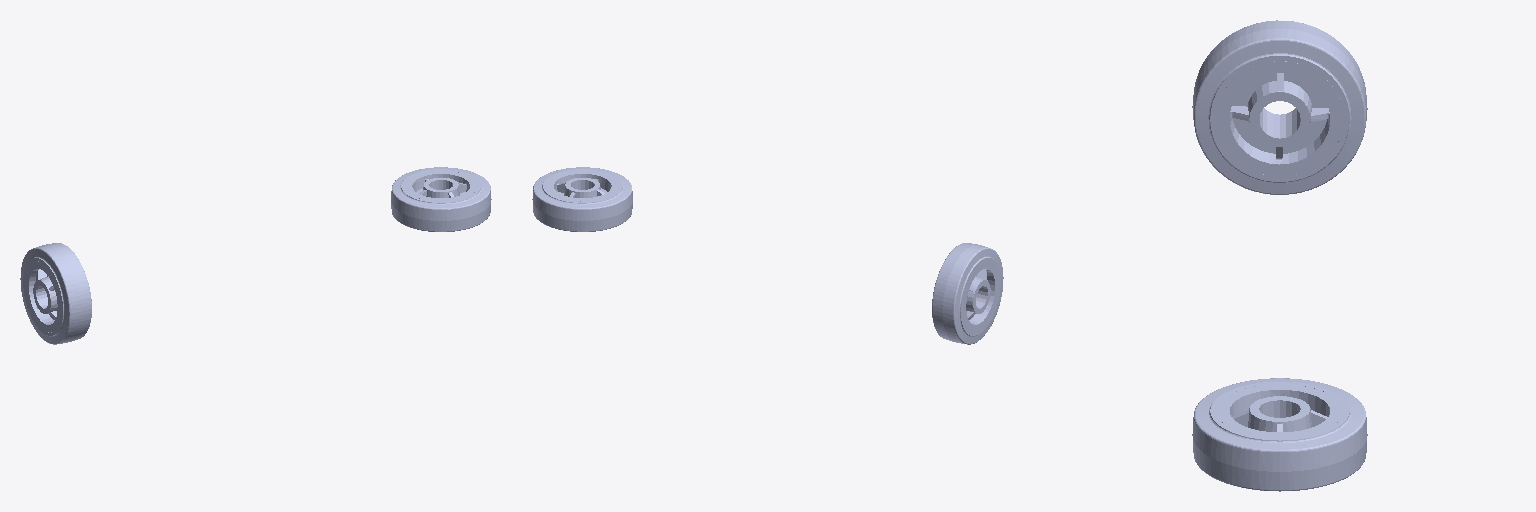
robot.urdf — drivetrain_urdf:
<?xml version="1.0" encoding="utf-8"?>
<!-- This URDF was automatically created by SolidWorks to URDF Exporter! Originally created by Stephen Brawner (brawner@gmail.com) 
     Commit Version: 1.6.0-4-g7f85cfe  Build Version: 1.6.7995.38578
     For more information, please see http://wiki.ros.org/sw_urdf_exporter -->
<robot
  name="drivetrain_urdf">

  <link name="world"/>

  <link
    name="drivetrain_base_link">
    <inertial>
      <origin
        xyz="0.25853 -0.477 0.1222"
        rpy="0 0 0" />
      <mass
        value="18.295" />
      <inertia
        ixx="0.10003"
        ixy="1.888E-07"
        ixz="9.4489E-10"
        iyy="0.18366"
        iyz="-7.4547E-08"
        izz="0.18101" />
    </inertial>
    <visual>
      <origin
        xyz="0 0 0"
        rpy="0 0 0" />
      <geometry>
        <mesh
          filename="package://drivetrain_urdf/meshes/drivetrain_base_link.STL" />
      </geometry>
      <material
        name="">
        <color
          rgba="0.75294 0.75294 0.75294 1" />
      </material>
    </visual>
    <collision>
      <origin
        xyz="0 0 0"
        rpy="0 0 0" />
      <geometry>
        <mesh
          filename="package://drivetrain_urdf/meshes/drivetrain_base_link.STL" />
      </geometry>
    </collision>
  </link>

  <joint name="drivetrain_base_joint" type="fixed">
  	<parent link="world"/>
  	<child link="drivetrain_base_link"/>
  	<origin rpy="0 0 0" xyz="0.0 0.0 0.05"/>
  </joint>

  <link
    name="left_wheel">
    <inertial>
      <origin
        xyz="1.3885E-08 -4.7617E-10 -8.5335E-12"
        rpy="0 0 0" />
      <mass
        value="0.36704" />
      <inertia
        ixx="0.00082344"
        ixy="4.2918E-12"
        ixz="1.5551E-13"
        iyy="0.0004503"
        iyz="2.6527E-10"
        izz="0.0004503" />
    </inertial>
    <visual>
      <origin
        xyz="0 0 0"
        rpy="0 0 0" />
      <geometry>
        <mesh
          filename="package://drivetrain_urdf/meshes/left_wheel.STL" />
      </geometry>
      <material
        name="">
        <color
          rgba="0.79216 0.81961 0.93333 1" />
      </material>
    </visual>
    <collision>
      <origin
        xyz="0 0 0"
        rpy="0 0 0" />
      <geometry>
        <mesh
          filename="package://drivetrain_urdf/meshes/left_wheel.STL" />
      </geometry>
    </collision>
  </link>
  <joint
    name="left_wheel_joint"
    type="continuous">
    <origin
      xyz="-0.026657 -0.33398 0.025404"
      rpy="0 0 0" />
    <parent
      link="drivetrain_base_link" />
    <child
      link="left_wheel" />
    <axis
      xyz="1 0 0" />
  </joint>
  <link
    name="right_wheel">
    <inertial>
      <origin
        xyz="1.38846332209397E-08 4.10696837649382E-10 2.41110575949222E-10"
        rpy="0 0 0" />
      <mass
        value="0.367037154275227" />
      <inertia
        ixx="0.000823444186063911"
        ixy="-3.66312426938167E-12"
        ixz="-2.24165898011139E-12"
        iyy="0.000450304106155882"
        iyz="9.61590847610915E-10"
        izz="0.000450303560864401" />
    </inertial>
    <visual>
      <origin
        xyz="0 0 0"
        rpy="0 0 0" />
      <geometry>
        <mesh
          filename="package://drivetrain_urdf/meshes/right_wheel.STL" />
      </geometry>
      <material
        name="">
        <color
          rgba="0.792156862745098 0.819607843137255 0.933333333333333 1" />
      </material>
    </visual>
    <collision>
      <origin
        xyz="0 0 0"
        rpy="0 0 0" />
      <geometry>
        <mesh
          filename="package://drivetrain_urdf/meshes/right_wheel.STL" />
      </geometry>
    </collision>
  </link>
  <joint
    name="right_wheel_joint"
    type="continuous">
    <origin
      xyz="0.53466 -0.33397 0.025369"
      rpy="0 0 0" />
    <parent
      link="drivetrain_base_link" />
    <child
      link="right_wheel" />
    <axis
      xyz="1 0 0" />
  </joint>

  <transmission name="left_wheel_trans">
  	<type>transmission_interface/SimpleTransmission</type>
  	<joint name="left_wheel_joint">
  		<hardwareInterface>hardware_interface/PositionJointInterface</hardwareInterface>
  	</joint>
  	<actuator name="left_wheel_motor">
  		<hardwareInterface>hardware_interface/PositionJointInterface</hardwareInterface>
  		<mechanicalReduction>1</mechanicalReduction>
  	</actuator>
  </transmission>
  
  <transmission name="right_wheel_trans">
  	<type>transmission_interface/SimpleTransmission</type>
  	<joint name="right_wheel_joint">
  		<hardwareInterface>hardware_interface/PositionJointInterface</hardwareInterface>
  	</joint>
  	<actuator name="right_wheel_motor">
  		<hardwareInterface>hardware_interface/PositionJointInterface</hardwareInterface>
  		<mechanicalReduction>1</mechanicalReduction>
  	</actuator>
  </transmission>
  
  <gazebo>
  	<plugin name="control" filename="libgazebo_ros_control.so">
  		<robotNamespace>/</robotNamespace>
  	</plugin>
  </gazebo>
  
  <gazebo reference="left_wheel">
  	<selfCollide>true</selfCollide>
  </gazebo>
  
  <gazebo reference="right_wheel">
  	<selfCollide>true</selfCollide>
  </gazebo>

</robot>

--- What the picture shows (computed from the rendered views, not written in the file) ---
3 views of the same robot in one strip: view 1: azimuth 30°, elevation 25°; view 2: azimuth 150°, elevation 25°; view 3: azimuth 270°, elevation 25° (orthographic).
Model drivetrain_urdf with 4 links and 3 joints (2 continuous, 1 fixed), rooted at world, posed every joint at zero.
Visible links, largest first — view 1: left_wheel, right_wheel; view 2: left_wheel, right_wheel; view 3: left_wheel, right_wheel.
Boxes of the visible links, x1,y1,x2,y2 form: left_wheel: (20,243,91,344); right_wheel: (391,167,491,231); left_wheel: (932,243,1003,344); right_wheel: (532,167,632,231); left_wheel: (1192,20,1367,194); right_wheel: (1192,378,1367,491).
Size in the robot's own frame: 0.6455 by 0.127 by 0.127 metres.
Meshes: 3 distinct files referenced, 2 mesh visuals loaded (2 binary STL); not drawn: 1 (reference not matched to a file when rendering).
